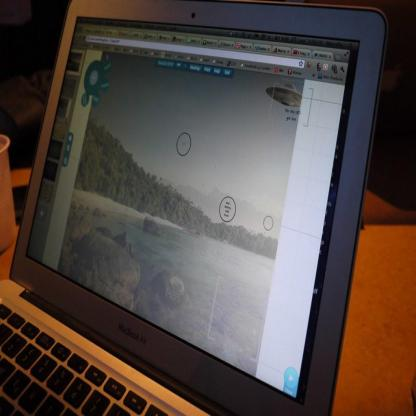board: (0, 0, 389, 416)
